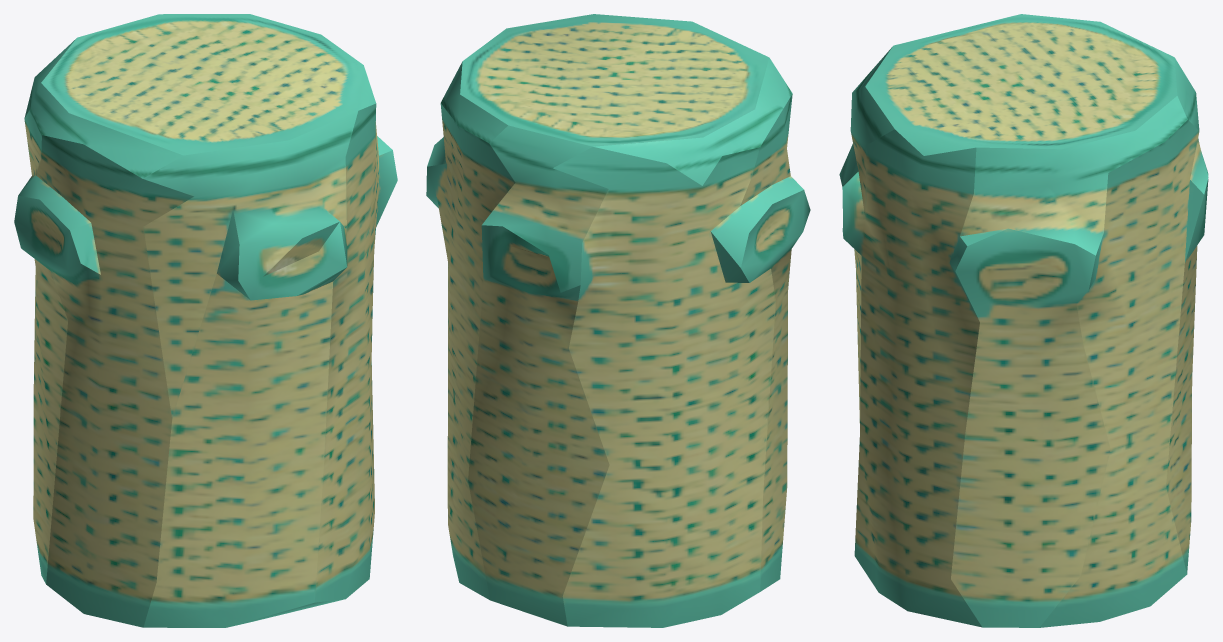
The model's file is seavilla-woven-hamper.glb.
The picture shows the model from 3 angles, left to right: view 1: azimuth 30°, elevation 25°; view 2: azimuth 150°, elevation 25°; view 3: azimuth 270°, elevation 25°; orthographic projection.
Parts seen in each view (by area): view 1: geometry_0; view 2: geometry_0; view 3: geometry_0.
Part boxes in pixels (bbox=[...]): geometry_0: bbox=[14, 14, 397, 627]; geometry_0: bbox=[426, 14, 810, 627]; geometry_0: bbox=[839, 14, 1208, 627].
Bounding box in the file's own units: 0.6895 × 1 × 0.6906.
1 material, 1 textured.
